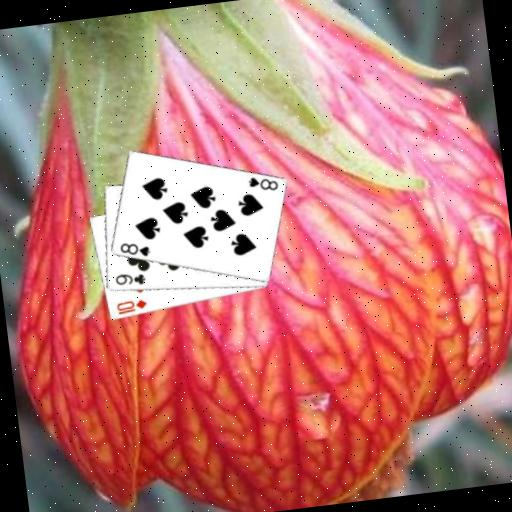10D: (112, 296, 149, 317)
8S: (117, 238, 153, 262), (244, 171, 280, 195)
9C: (112, 269, 148, 290)
